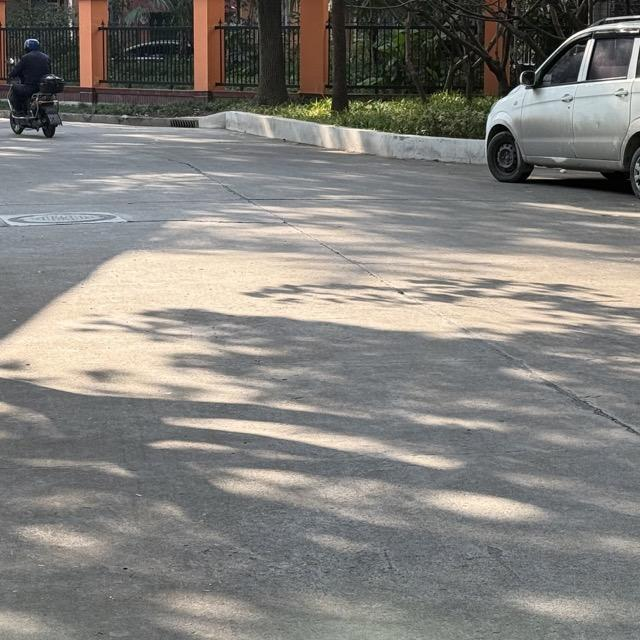curb: (64, 111, 485, 163)
